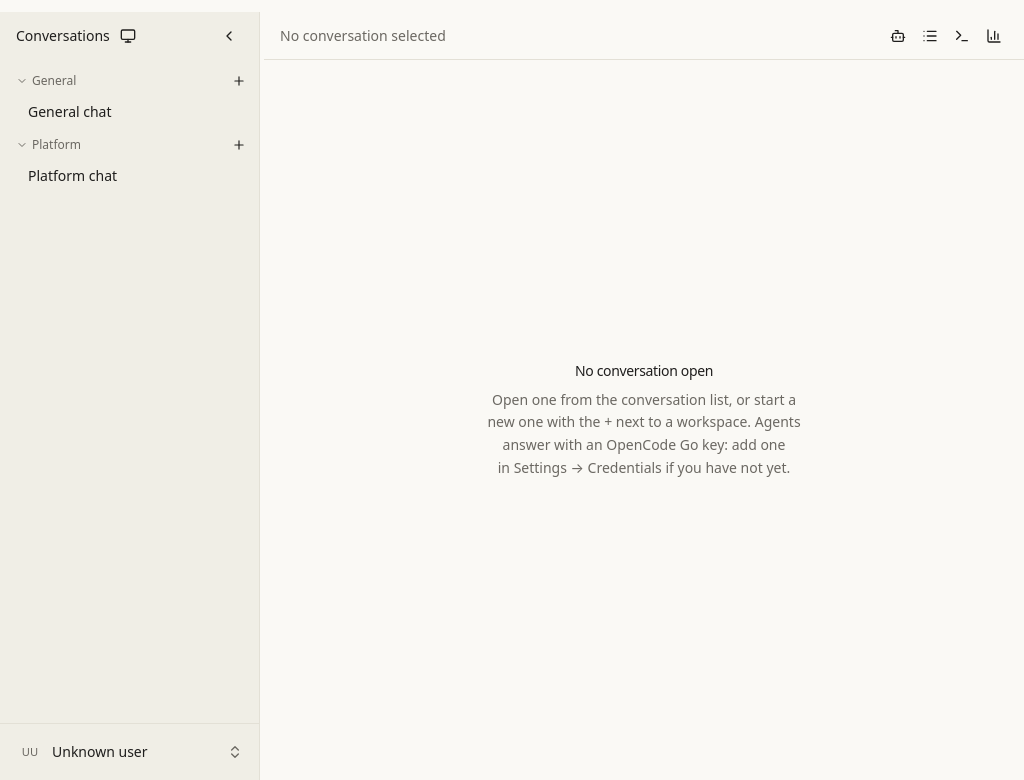
Test: App › keeps one panel at a time and closes it again from the same toggle
Check: the button "General chat" is shown, box left=8, top=96, right=251, bottom=128
Click the button named "Conversation info": (930, 36) left=916, top=22, right=944, bottom=50
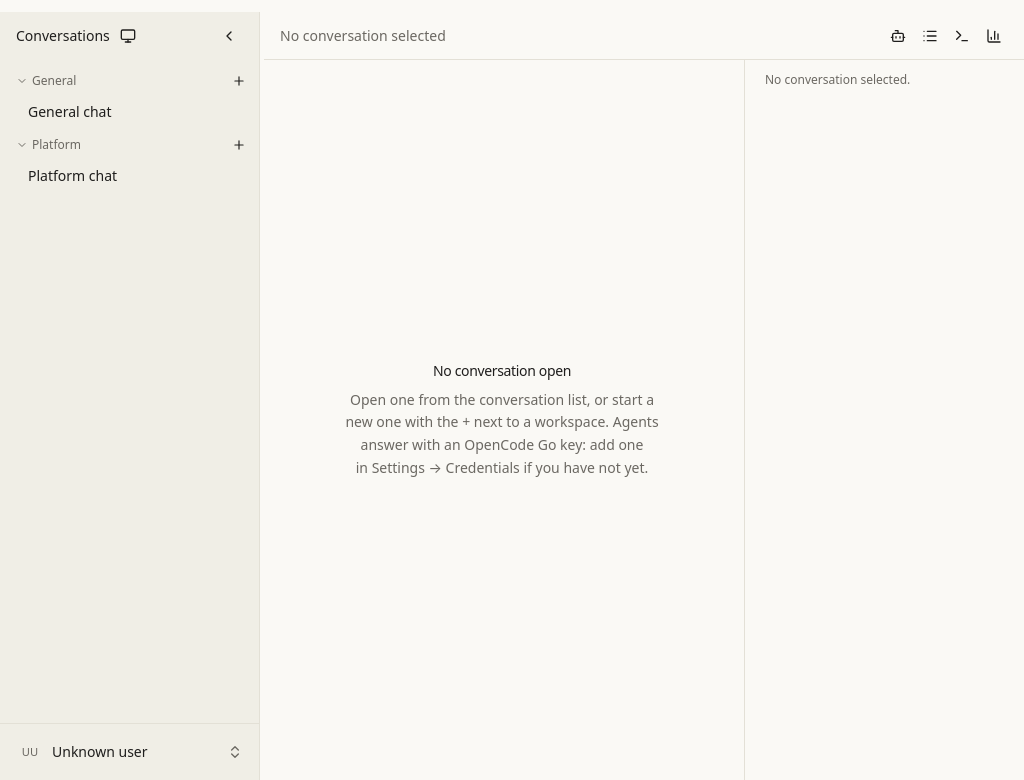
Check: the element named "Conversation info" is shown, box left=744, top=60, right=1023, bottom=779
Click the button named "Sub agents": (898, 36) left=884, top=22, right=912, bottom=50
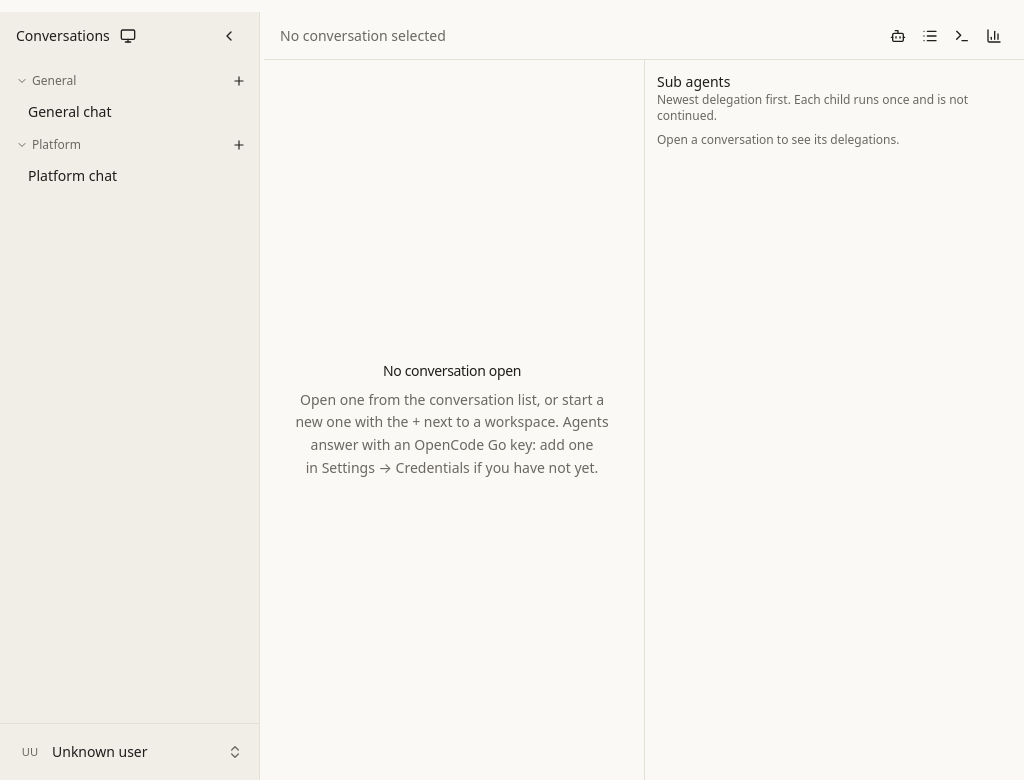
Check: the element "Sub agents" is shown, box left=644, top=60, right=1023, bottom=779
Click the button named "Terminal": (962, 36) left=948, top=22, right=976, bottom=50
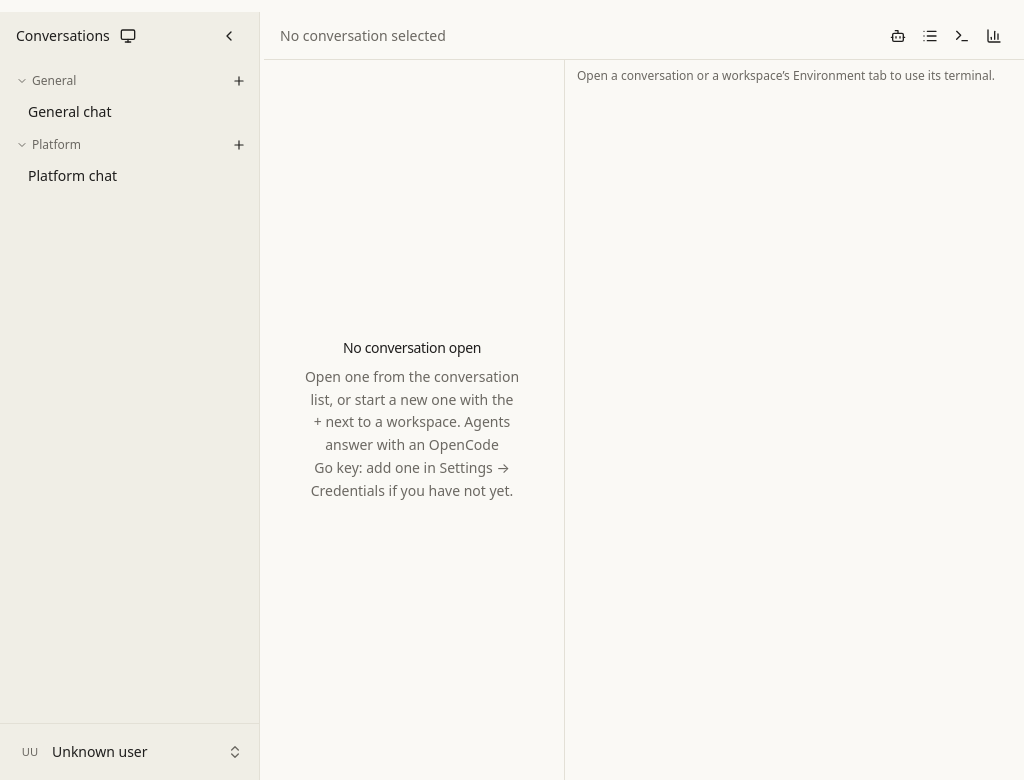
Check: the heading "Sub agents" is gone
Check: the element "terminal" is shown, box left=564, top=60, right=1023, bottom=779
Click the button named "Terminal": (962, 36) left=948, top=22, right=976, bottom=50
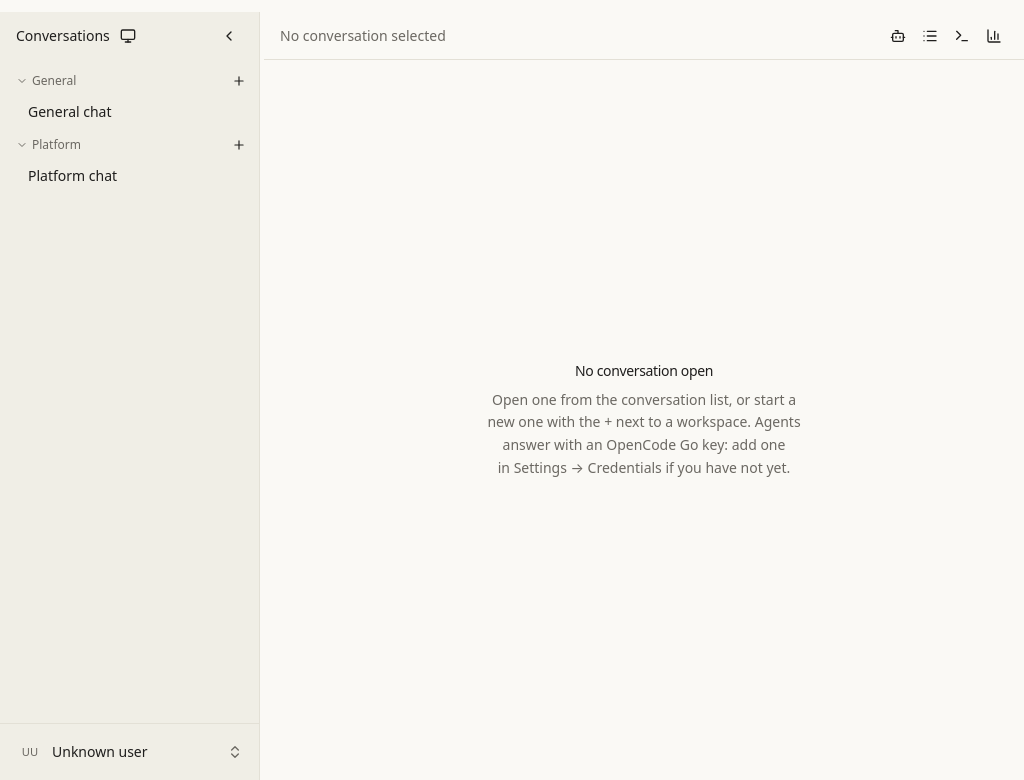
Check: the text "terminal" is gone
